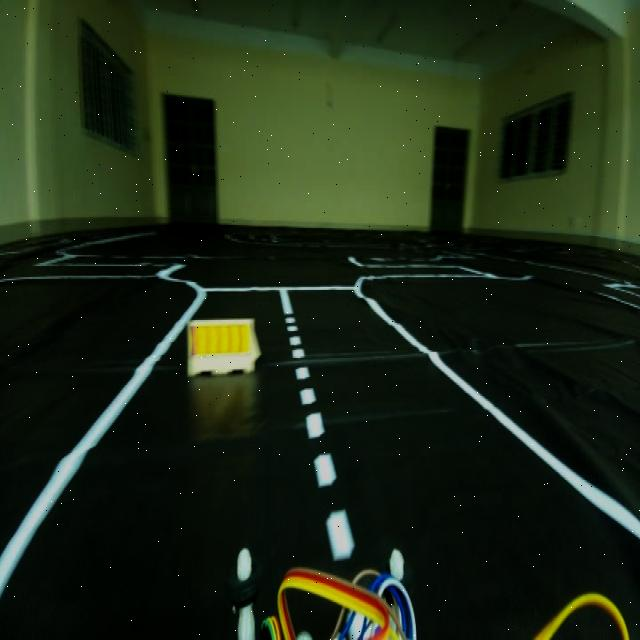roadblock: (183, 311, 265, 388)
